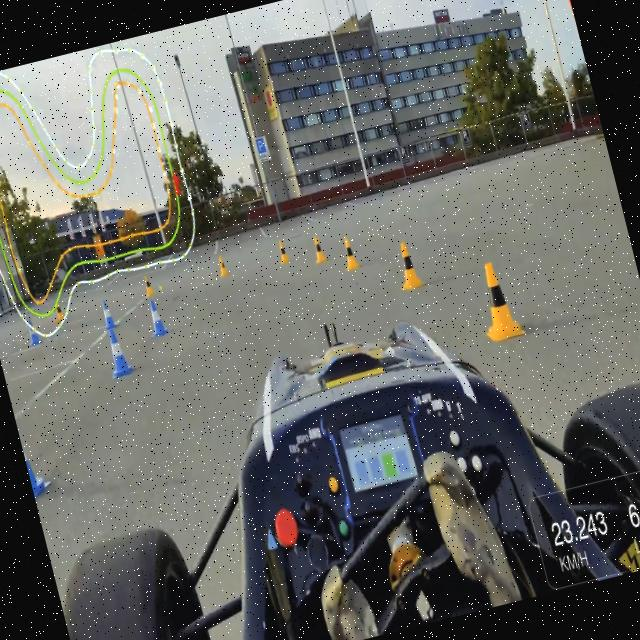blue_cone: (18, 426, 53, 504), (99, 324, 136, 381), (144, 295, 170, 339), (96, 296, 118, 330), (24, 312, 43, 348)
yellow_cone: (464, 252, 530, 352), (389, 237, 428, 295), (336, 232, 364, 276), (309, 234, 328, 268), (140, 270, 157, 297), (213, 252, 230, 278), (274, 237, 290, 264), (52, 302, 68, 326)
